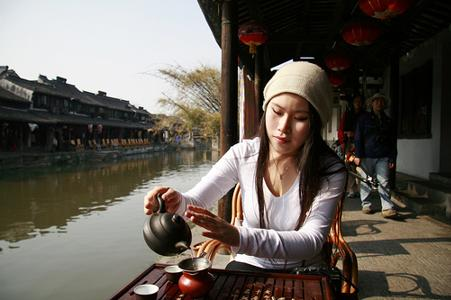person: (143, 62, 348, 277)
